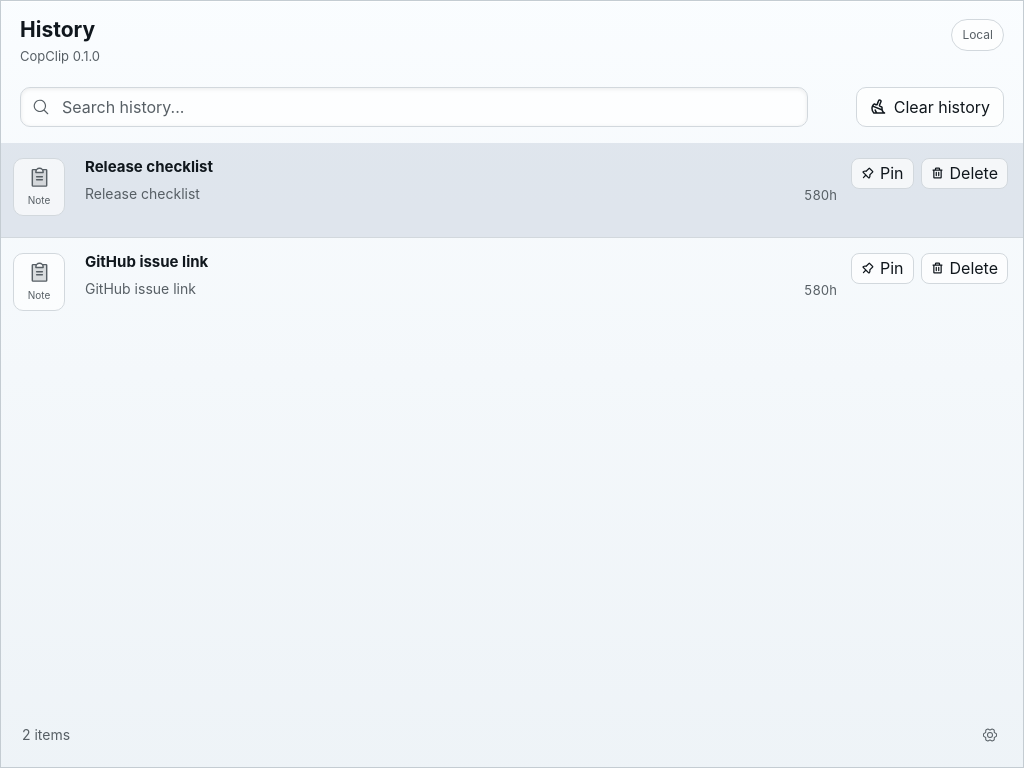
Test case: CopClip app shell › deletes and clears popup history items
Click the button with aria-label "Delete clipboard item: Release checklist".
click(964, 173)  # box [920,158,1008,188]
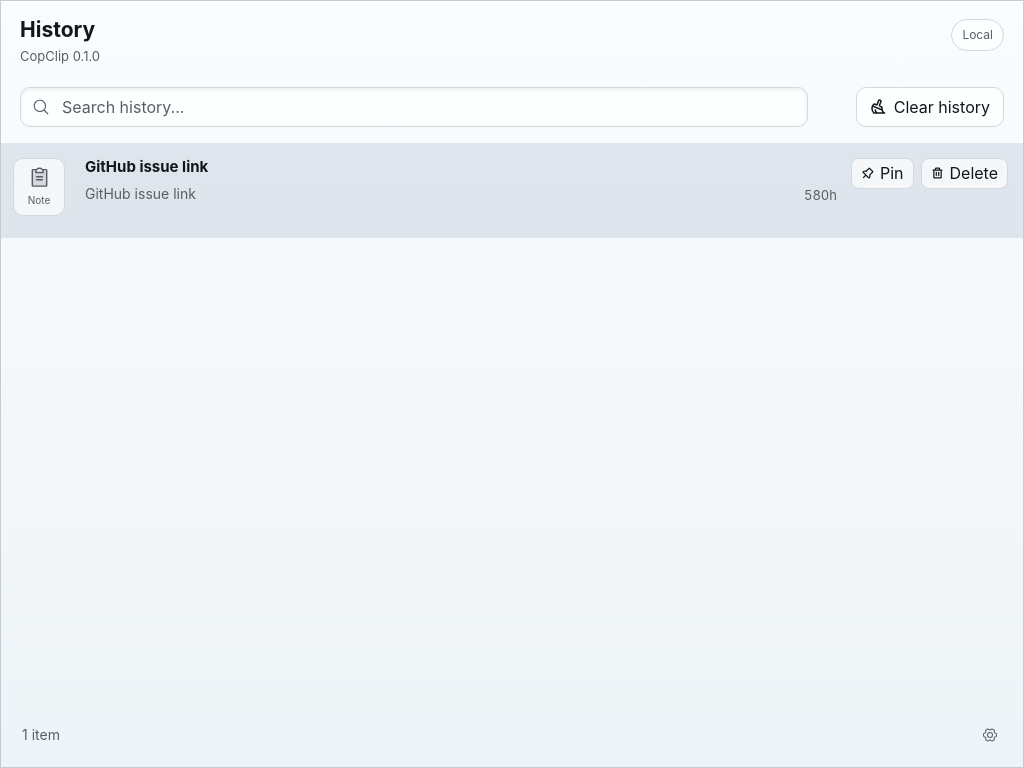
Expected: no buttons "Release checklist" are shown
Click the button "Clear history".
click(930, 106)  # box [856,86,1004,126]
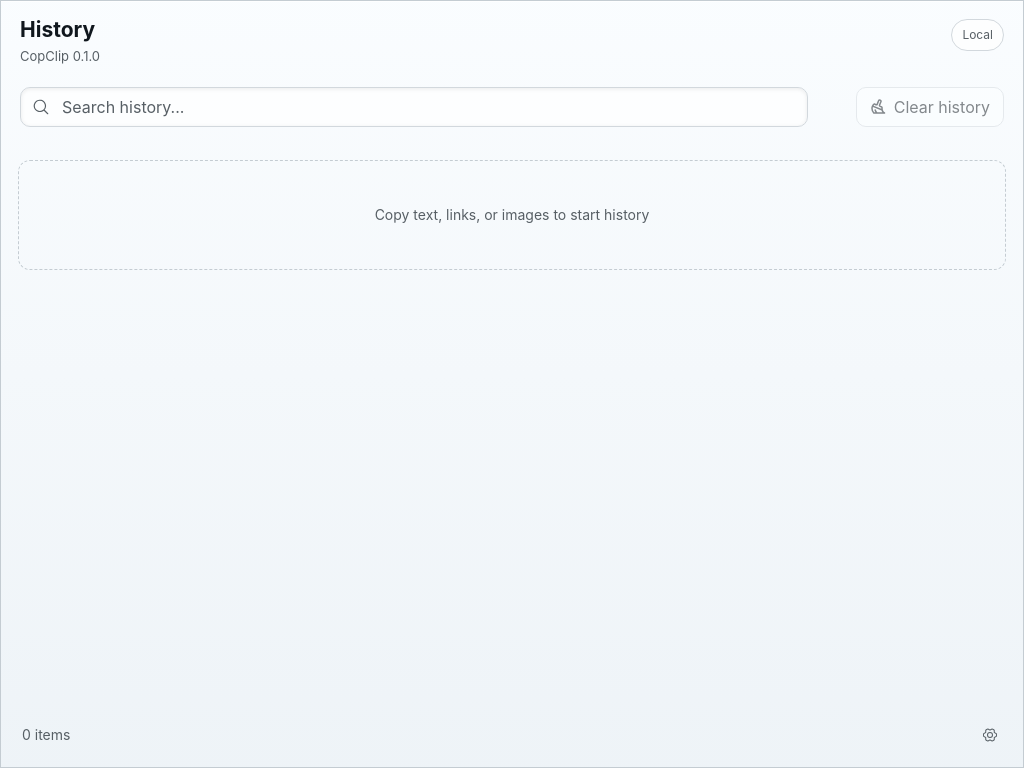
Expected: the text "Copy text, links, or images to start history" is shown, [18,160,1006,270]
